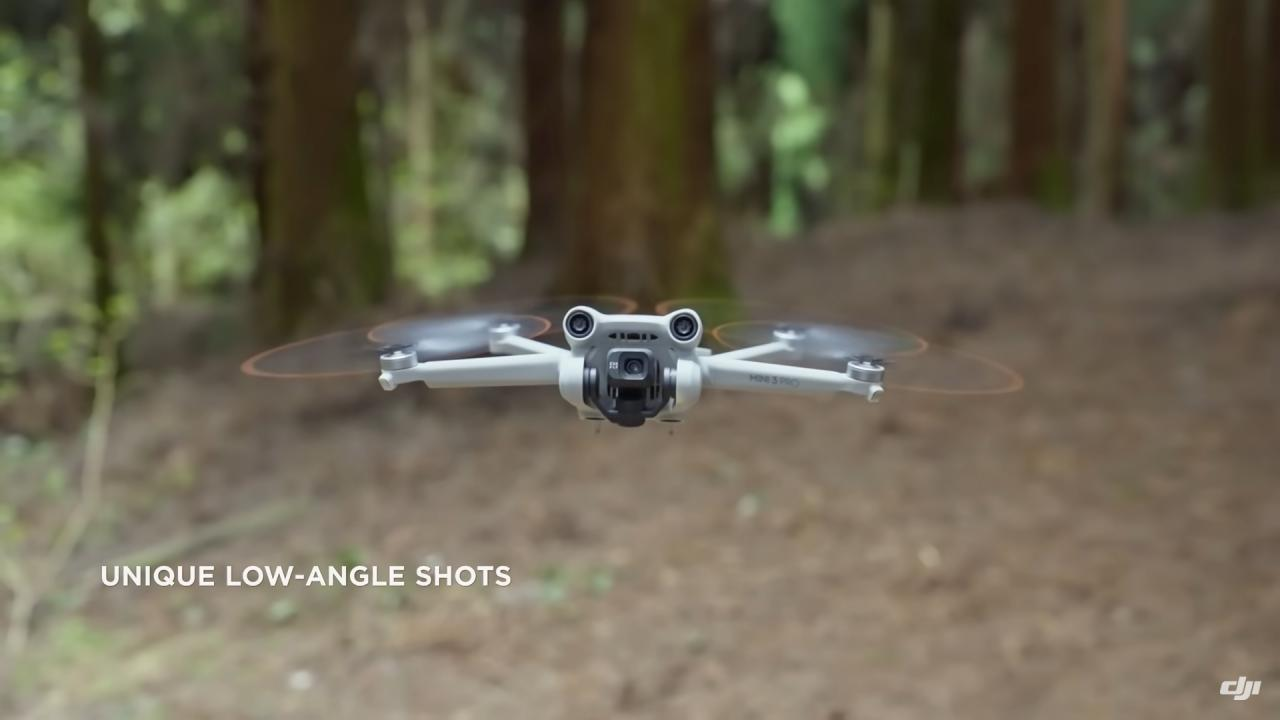Drone: (223, 267, 1037, 440)
